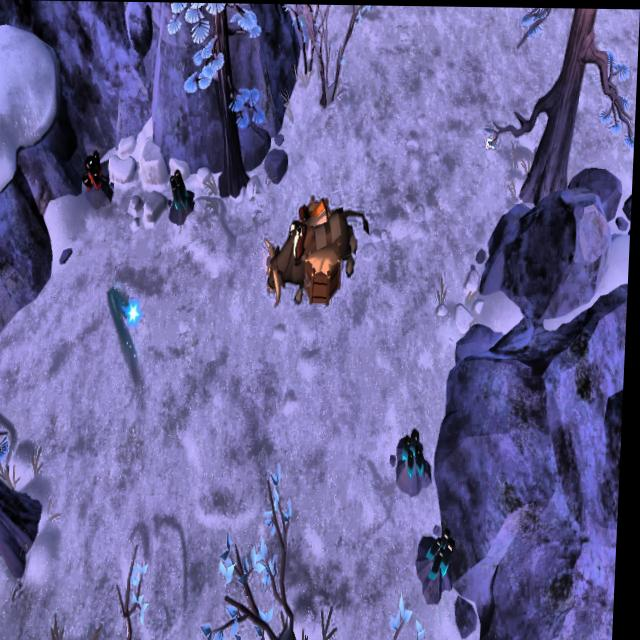ore_t4: (432, 524, 461, 585), (405, 424, 433, 476), (170, 167, 194, 213)
ore_t5: (82, 147, 108, 196)
